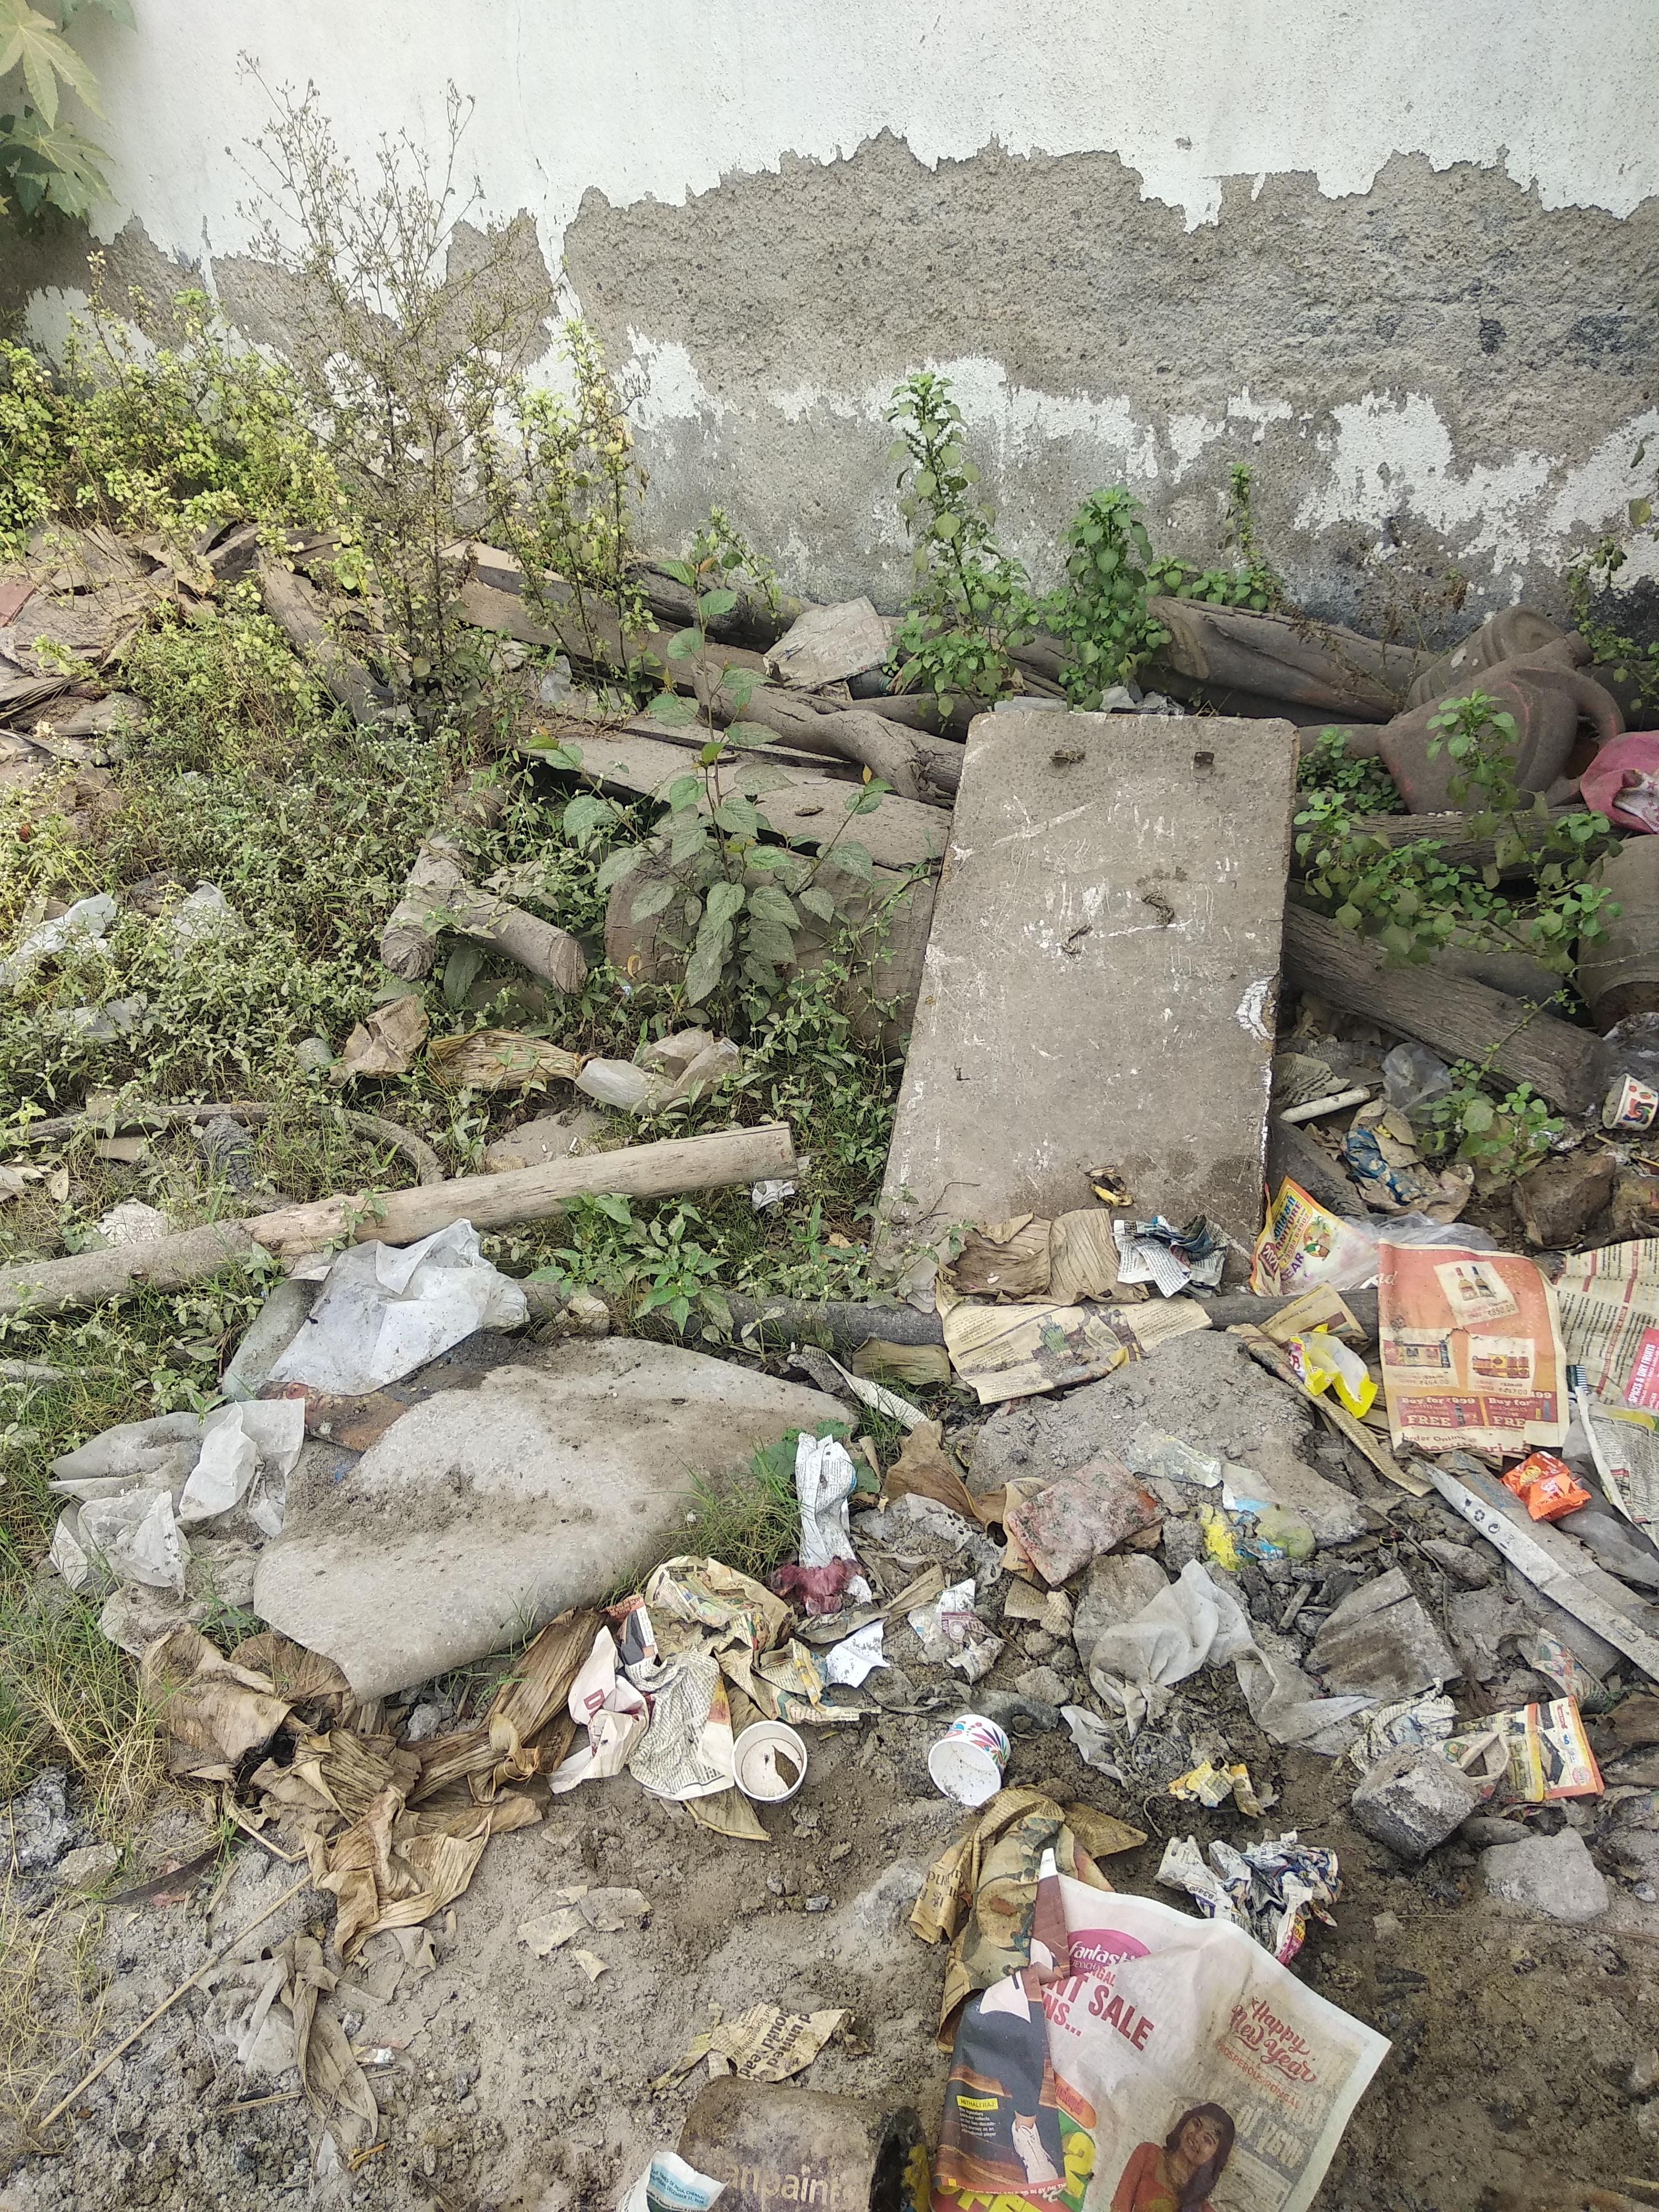trash: (7, 679, 1650, 2212)
